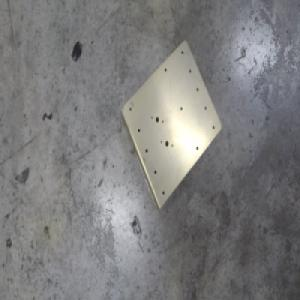MetalSheet: (118, 38, 222, 211)
